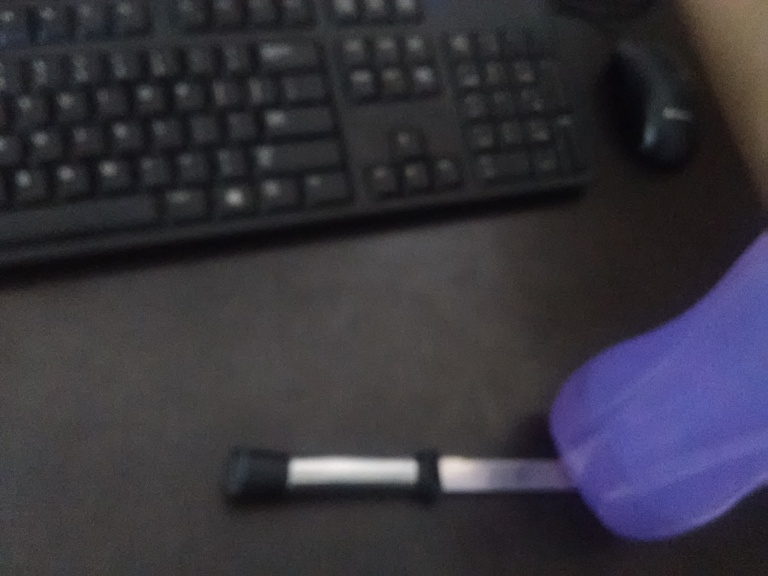knife: (219, 439, 569, 510)
